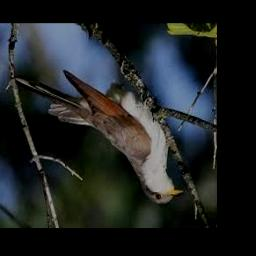Cuckoo: (48, 70, 184, 204)
